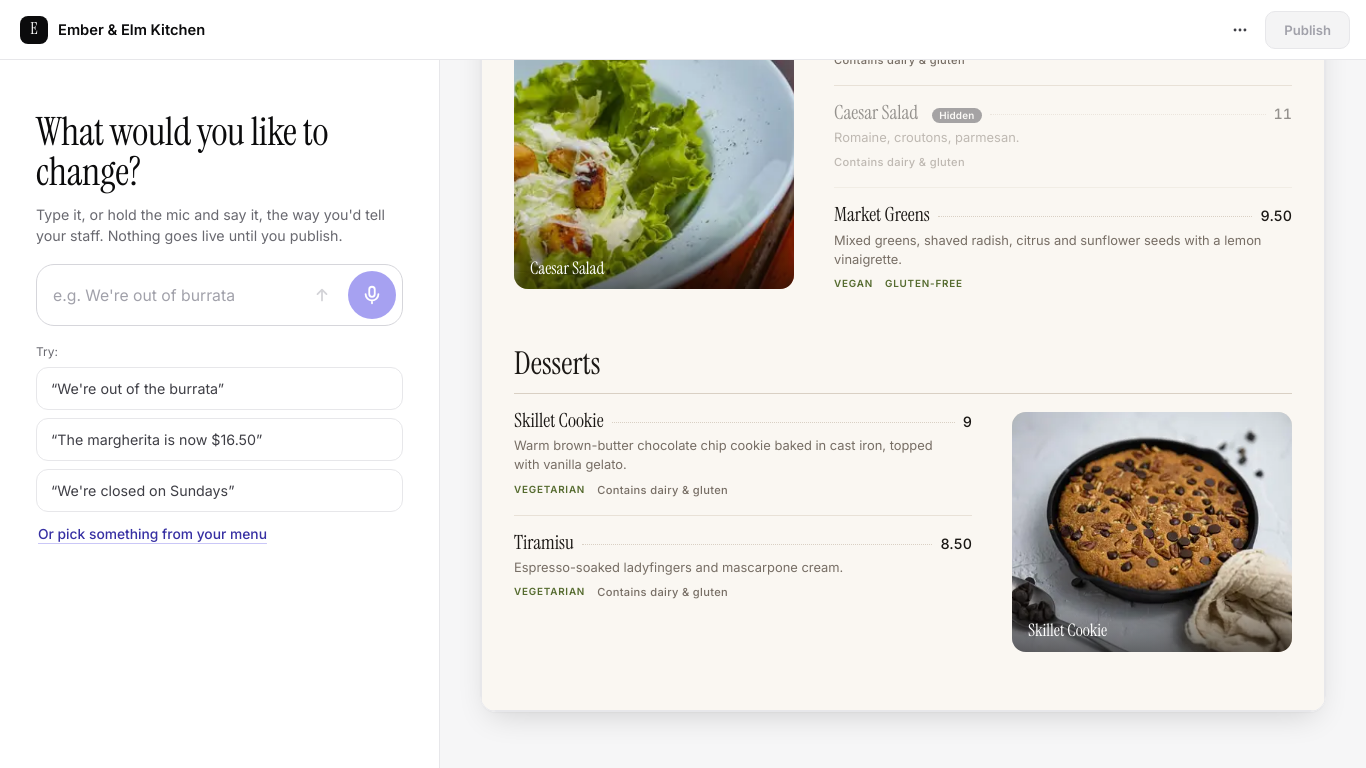
click-to-target › clicking an item or section in the preview selects it too
(page scrolled)
Click the list item that starts with "Tiramisu": (743, 567) 514,516 -> 972,618
(page scrolled)
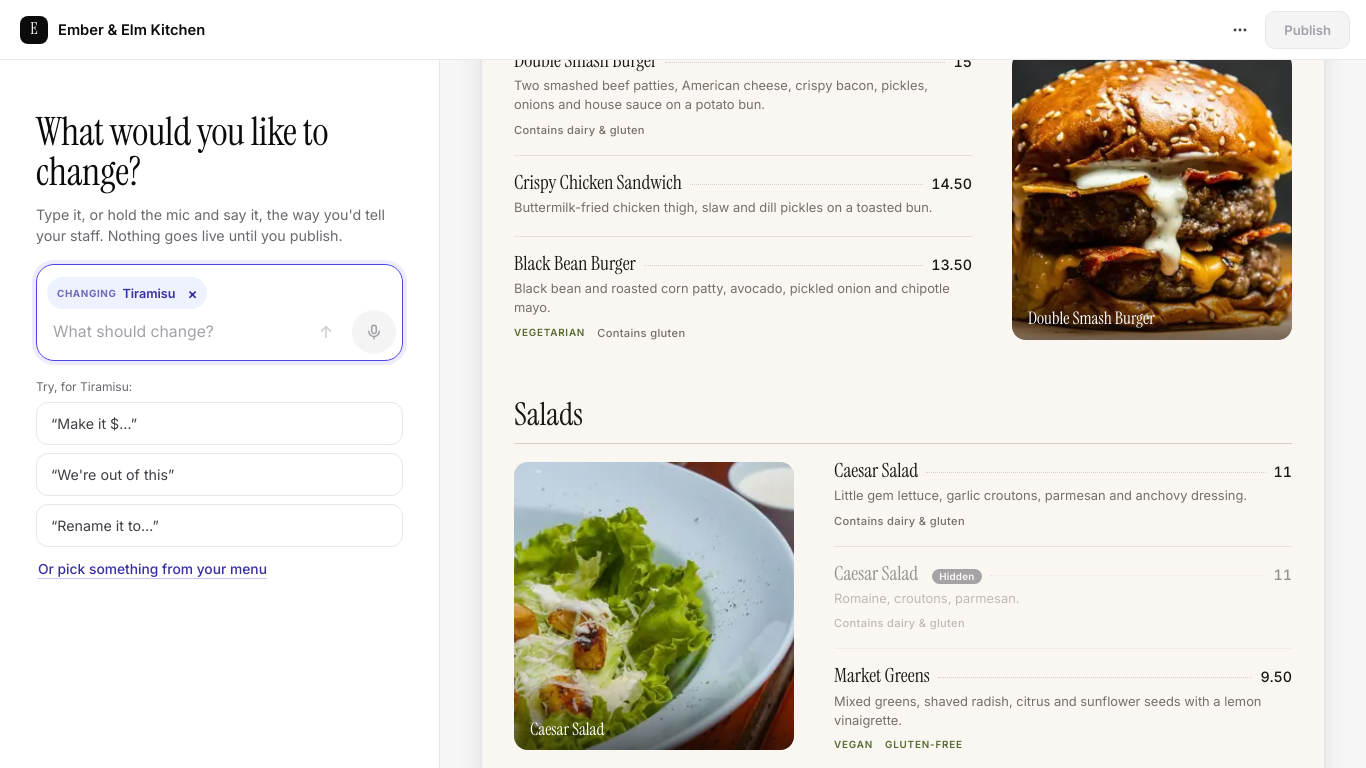
Check: the button named "Clear selection Tiramisu" is shown, box 182,282 -> 204,304
Click the heading "Salads": (548, 414) 514,398 -> 583,431
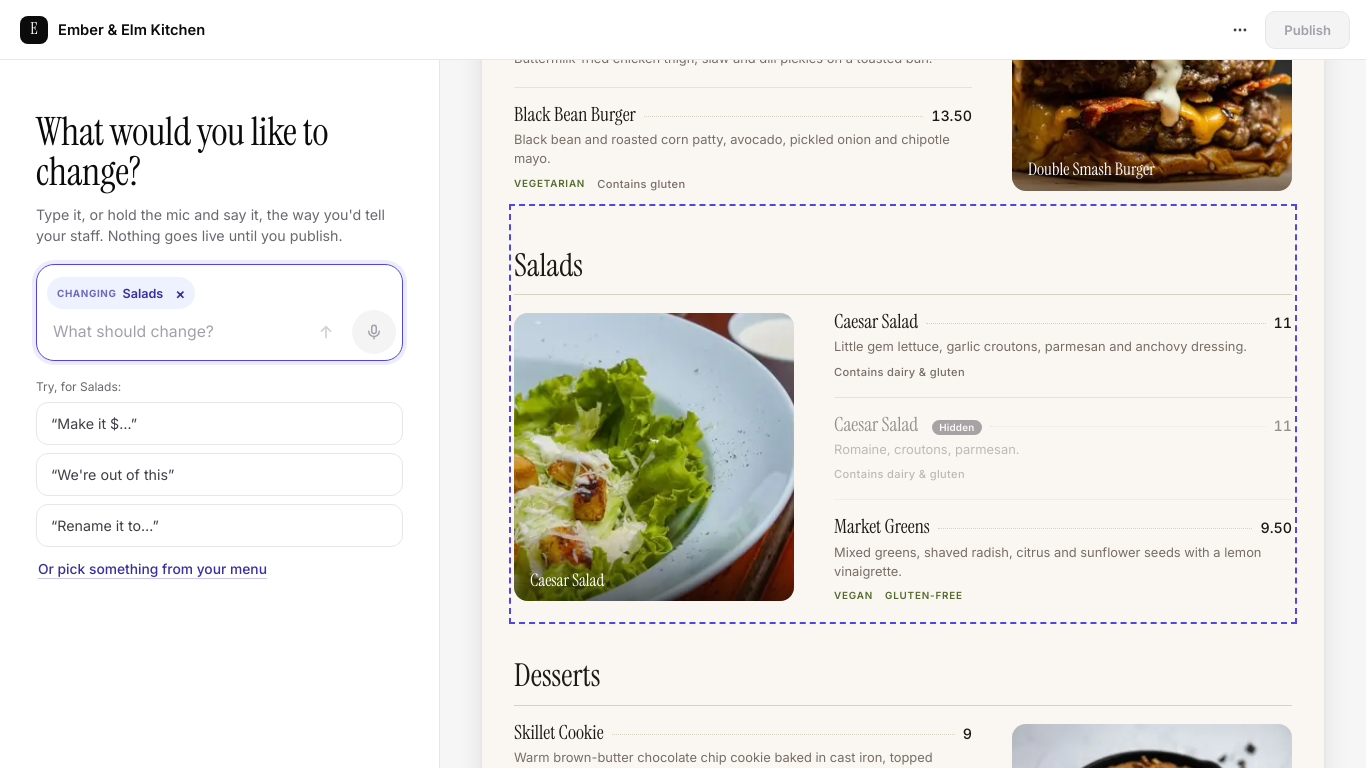
Check: the button named "Clear selection Salads" is shown, box 169,282 -> 191,304
